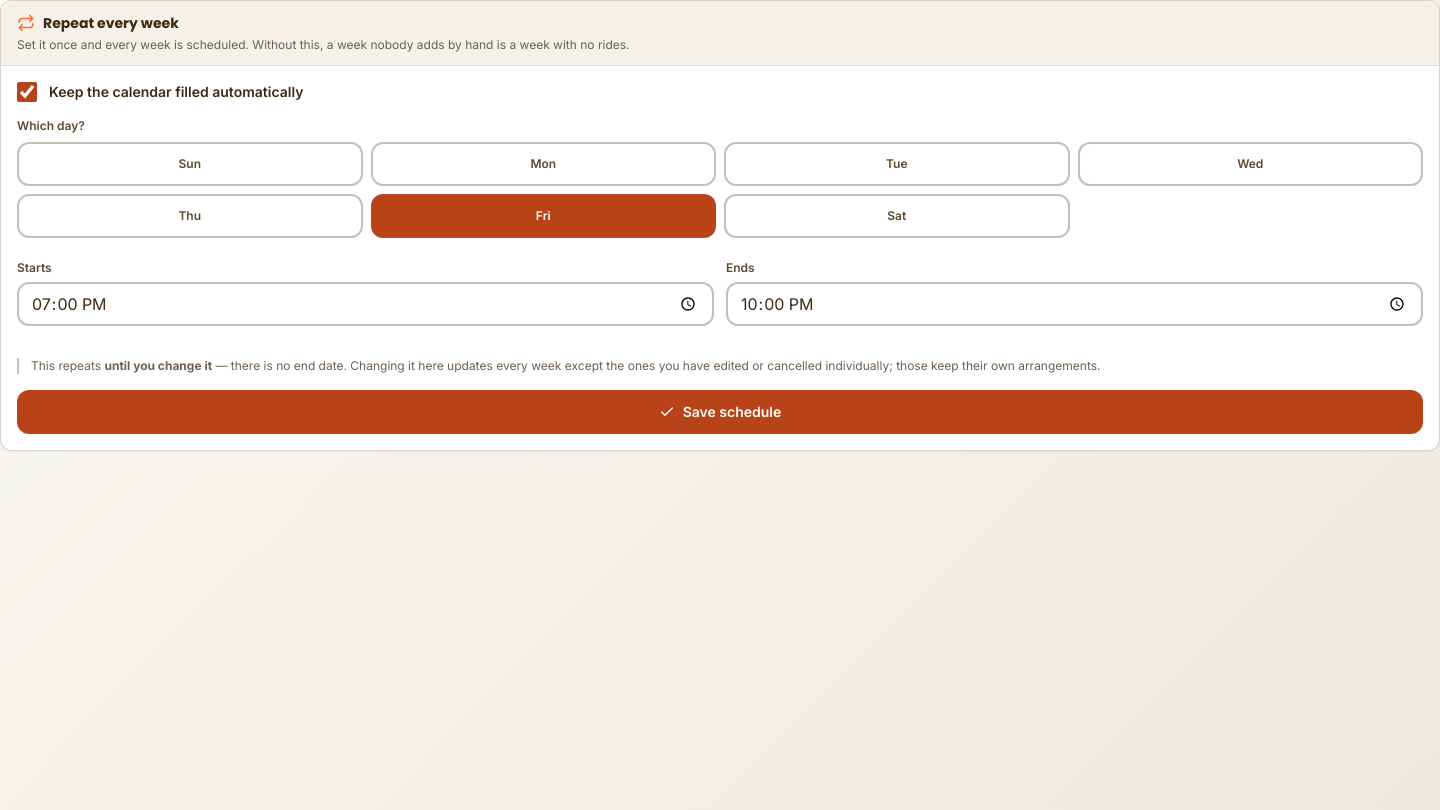
Test: RecurringSabha › refuses to save an enabled pattern with no days, and says why
Expected: the button "Save schedule" is shown, [17,390,1423,434]
Click the button with aria-label "Friday": [543, 216] box [370,194,716,238]
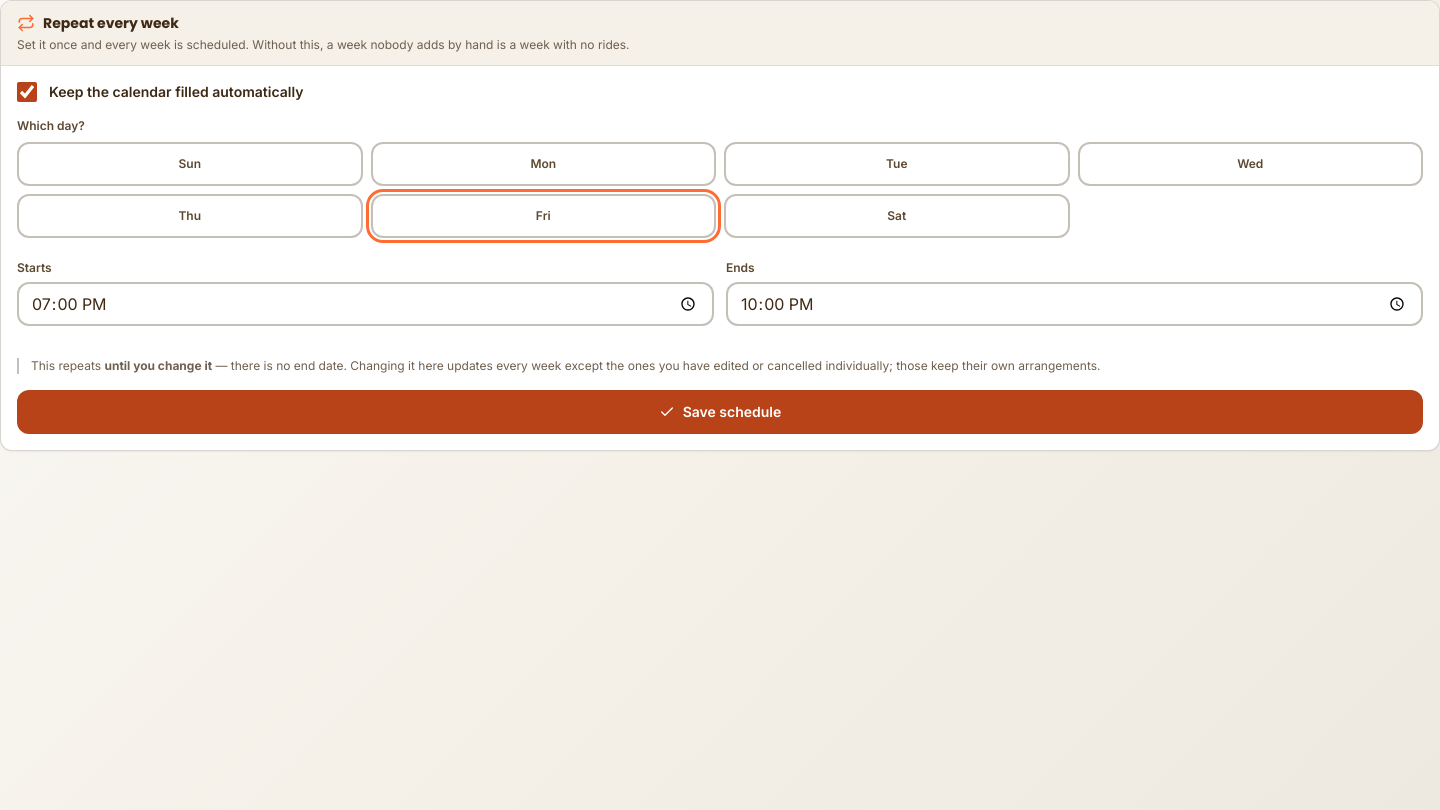
Click the button "Save schedule": [720, 412] box [17,390,1423,434]
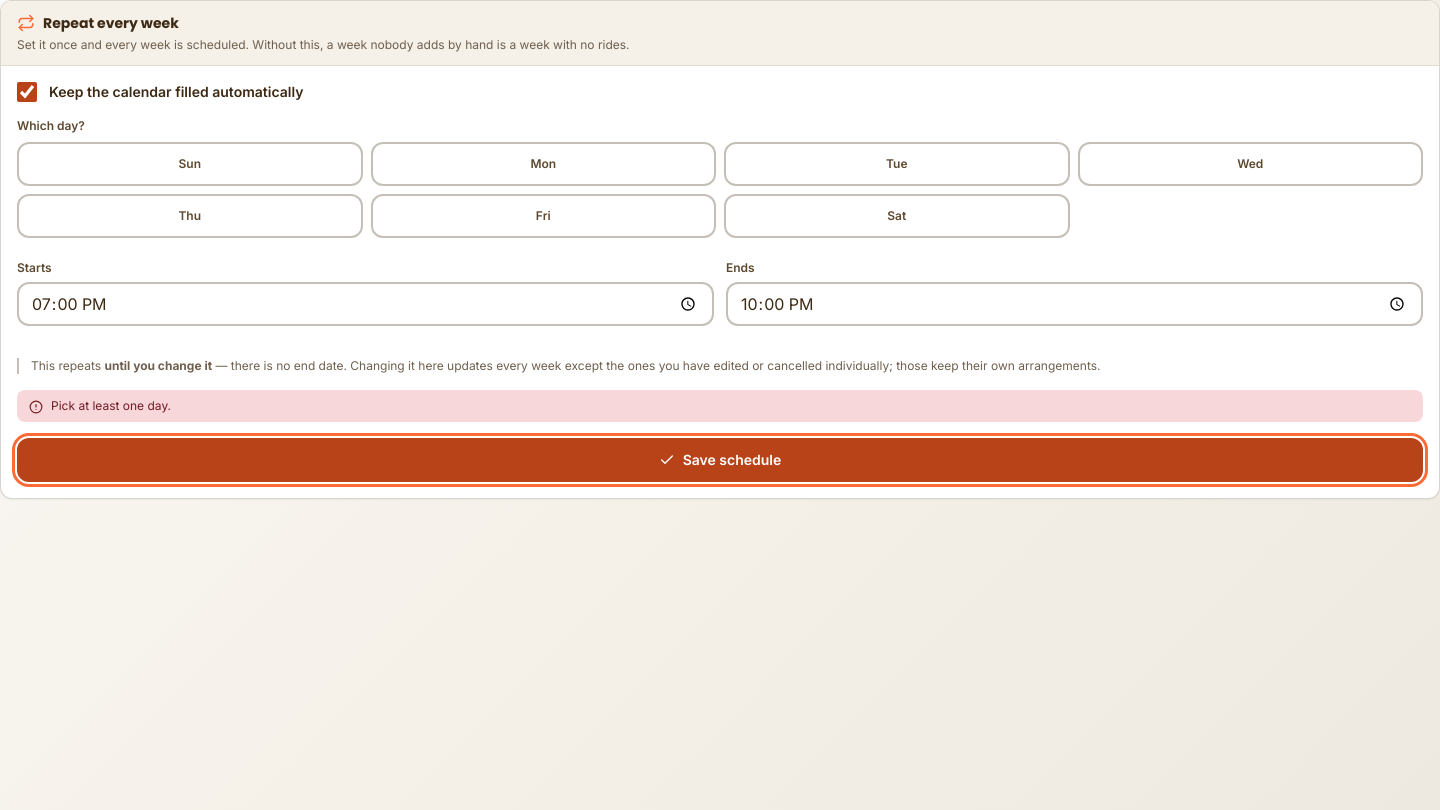
Expected: the message shows "at least one day", [51,398,171,413]
